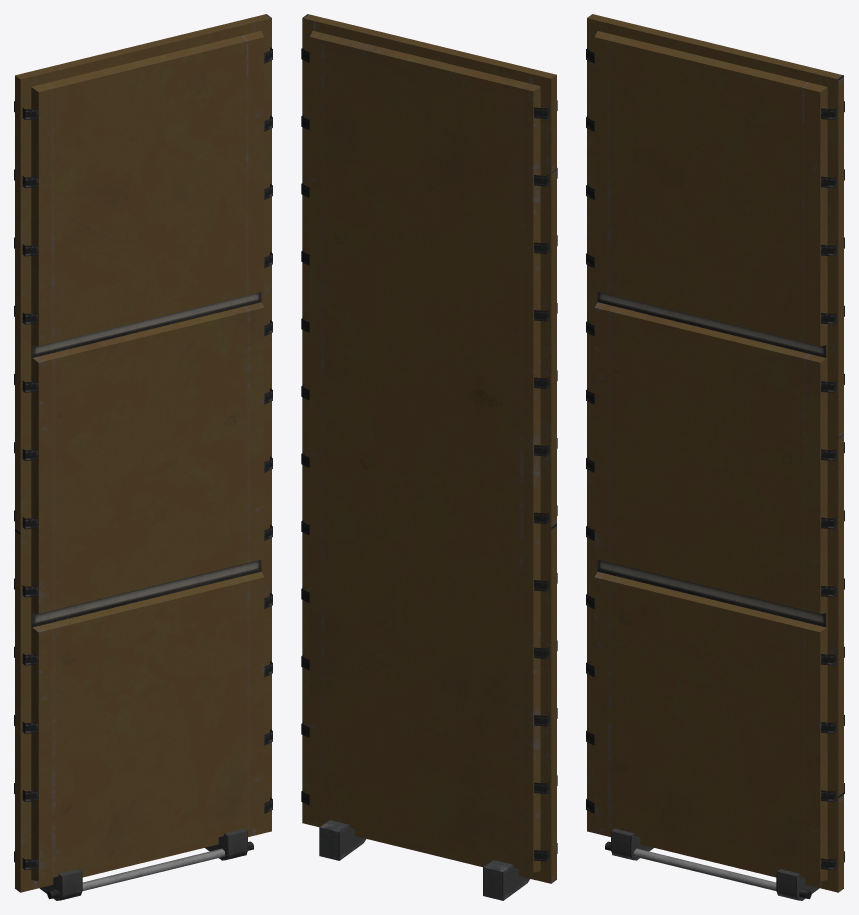
Rendered from Subway_Wall_el1B_L1.fbx.
The picture shows the model from 3 angles, left to right: view 1: azimuth 30°, elevation 25°; view 2: azimuth 150°, elevation 25°; view 3: azimuth 330°, elevation 25°; orthographic projection.
Parts seen in each view (by area): view 1: polySurface763; view 2: polySurface763; view 3: polySurface763.
Part boxes in pixels (x1=…): polySurface763: x1=14, y1=14, x2=272, y2=900; polySurface763: x1=301, y1=14, x2=557, y2=900; polySurface763: x1=586, y1=14, x2=844, y2=900.
Bounding box in the file's own units: 93.47 × 294 × 19.44.
